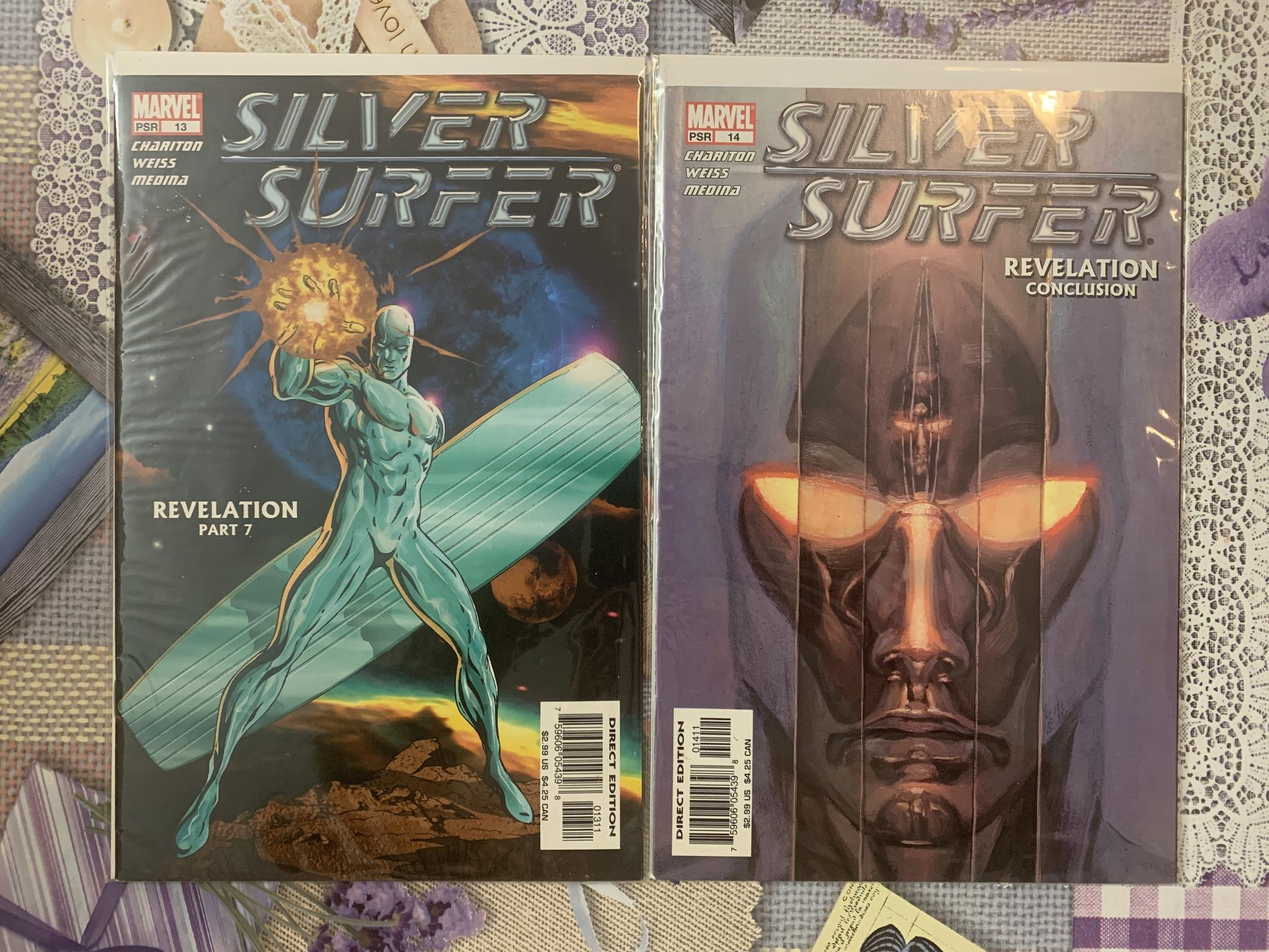comic: (647, 57, 1184, 884), (113, 54, 644, 880)
